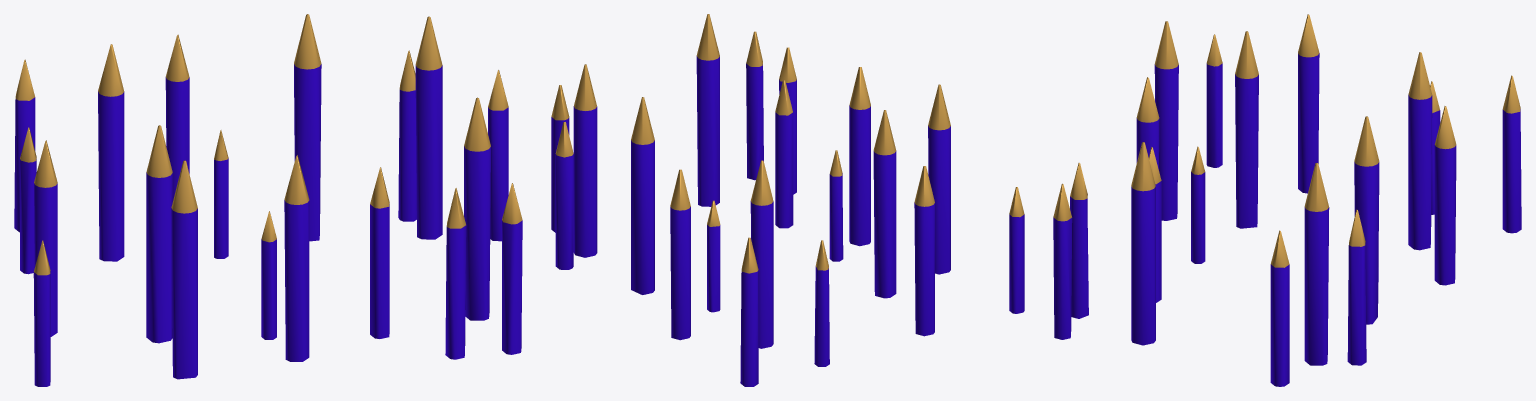
The model's file is matite_LOD1.fbx.
3 views of the same model, side by side, from view 1: azimuth 30°, elevation 25°; view 2: azimuth 150°, elevation 25°; view 3: azimuth 270°, elevation 25° (orthographic). The views are drawn at different scales.
Parts seen in each view (by area): view 1: Cylinder_029; view 2: Cylinder_029; view 3: Cylinder_029.
Boxes of the visible parts, x1,y1,x2,y2 form: Cylinder_029: [14, 14, 522, 386]; Cylinder_029: [551, 14, 1024, 386]; Cylinder_029: [1053, 14, 1521, 386].
Size of the model in its own units: 736 by 308 by 645.
